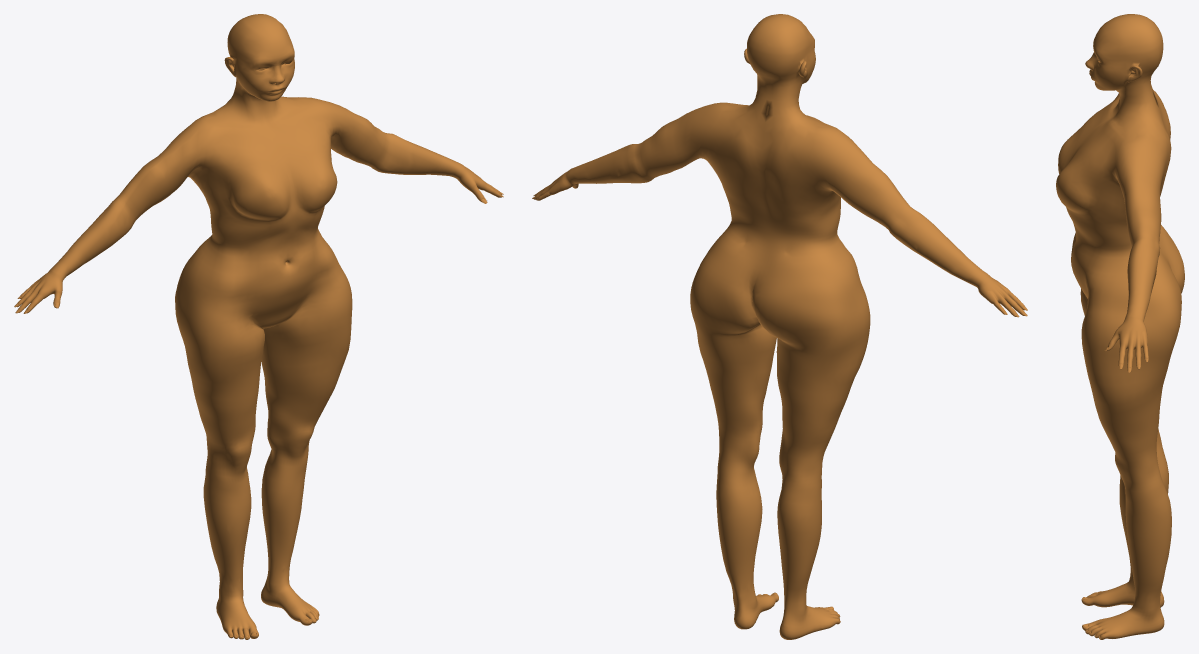
Rendered from female_XL_4.glb.
3 views of the same model, side by side, from view 1: azimuth 30°, elevation 25°; view 2: azimuth 150°, elevation 25°; view 3: azimuth 270°, elevation 25° (orthographic).
Visible parts, largest first — view 1: Body; view 2: Body; view 3: Body.
Boxes of the visible parts, box(x1,y1,x2,y2) form: Body: box(16, 14, 503, 639); Body: box(533, 14, 1024, 639); Body: box(1056, 14, 1184, 639).
Bounding box in the file's own units: 1.58 × 1.85 × 0.3591.
